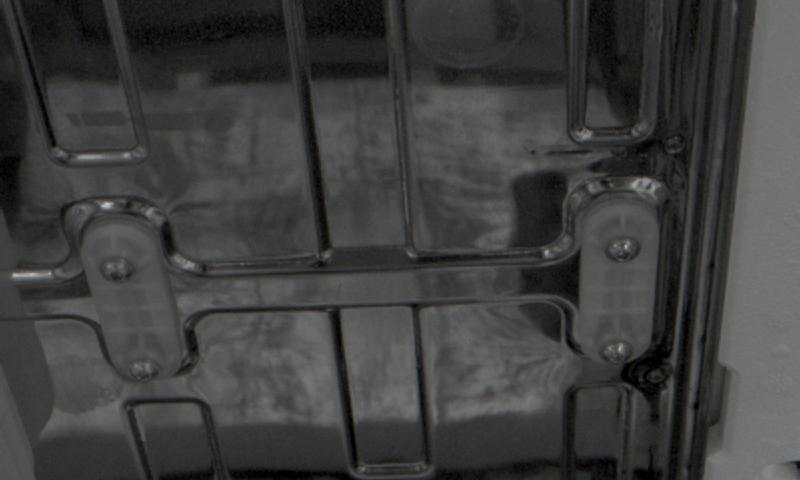vida-ok: (596, 228, 639, 273), (98, 247, 138, 292), (121, 346, 163, 386), (598, 330, 638, 368)
